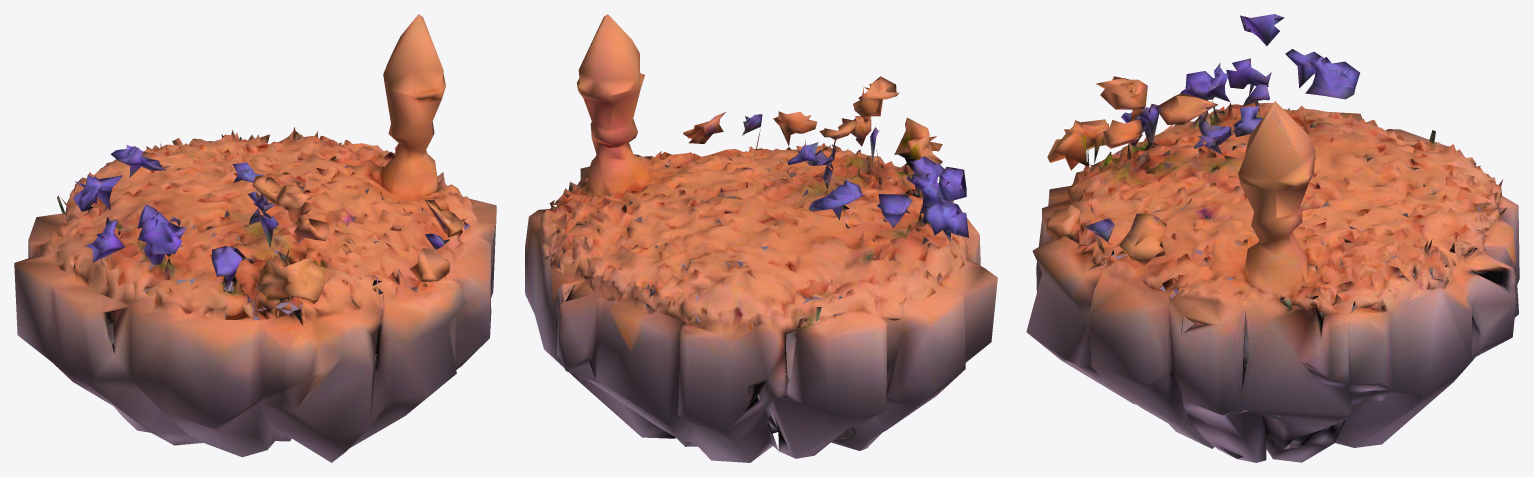
File: flower-island.glb
3 views of the same model, side by side, from view 1: azimuth 30°, elevation 25°; view 2: azimuth 150°, elevation 25°; view 3: azimuth 270°, elevation 25° (orthographic). The views are drawn at different scales.
Visible parts, largest first — view 1: Mesh_0; view 2: Mesh_0; view 3: Mesh_0.
Part boxes in pixels (box(x1,y1,x2,y2)): Mesh_0: box(14, 14, 496, 462); Mesh_0: box(525, 14, 997, 462); Mesh_0: box(1026, 14, 1519, 462).
Size of the model in its own units: 8.79 by 7.5 by 8.49.
Materials: 1 (1 with a texture image).
